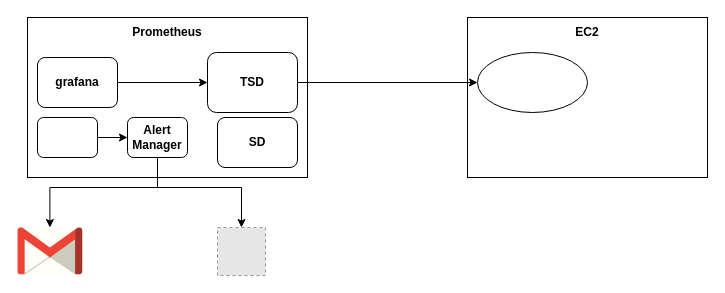
Some shapes in this 725 by 293 pixel diagram are drawn without their labels. Grey dashed boxes stand in for pictures. Each missing label, with the centre of its shape:
"node exporter" belongs at pixel 532 82.
"Rules" belongs at pixel 67 137.
